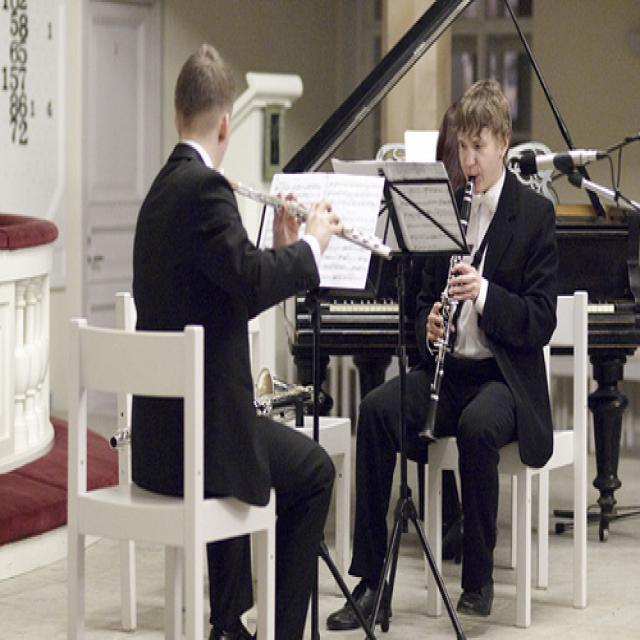clarinet: (419, 176, 476, 447)
